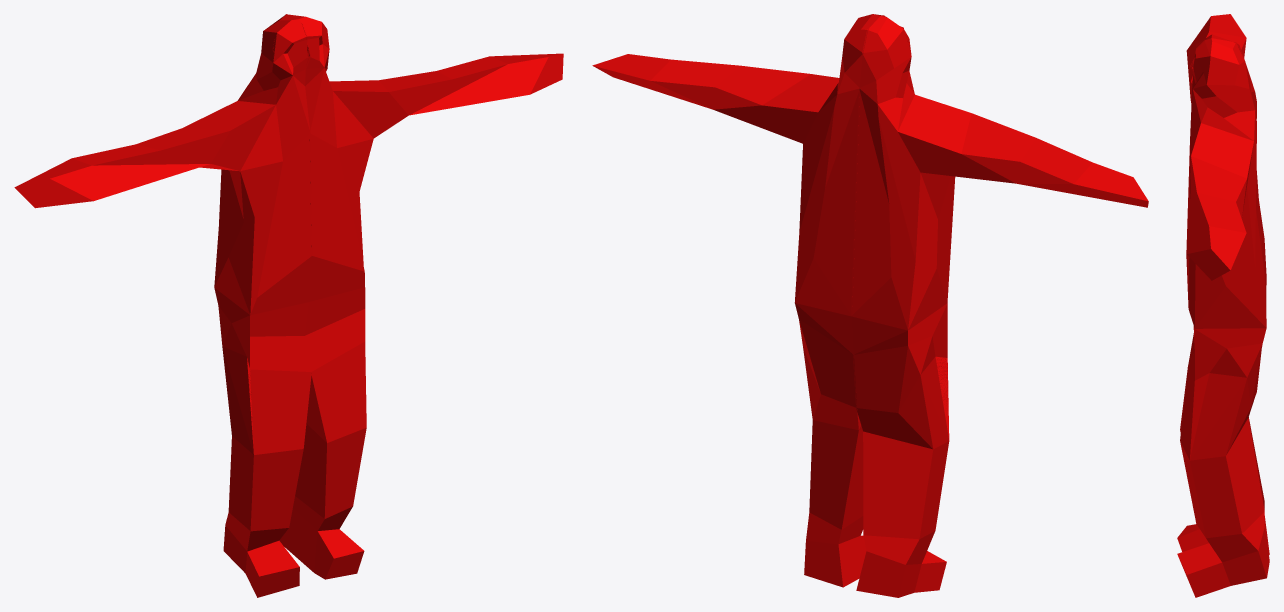
Rendered from child.glb.
3 renders of one model, left to right at view 1: azimuth 30°, elevation 25°; view 2: azimuth 150°, elevation 25°; view 3: azimuth 270°, elevation 25°, orthographic. The views are drawn at different scales.
Parts seen in each view (by area): view 1: Cube; view 2: Cube; view 3: Cube.
Part boxes in pixels (x1,y1,x2,y2): Cube: (14,14,563,597); Cube: (592,14,1148,597); Cube: (1177,14,1269,597).
Bounding box in the file's own units: 5.12 × 4.99 × 0.7809.
Materials: 1 (1 with a texture image).
